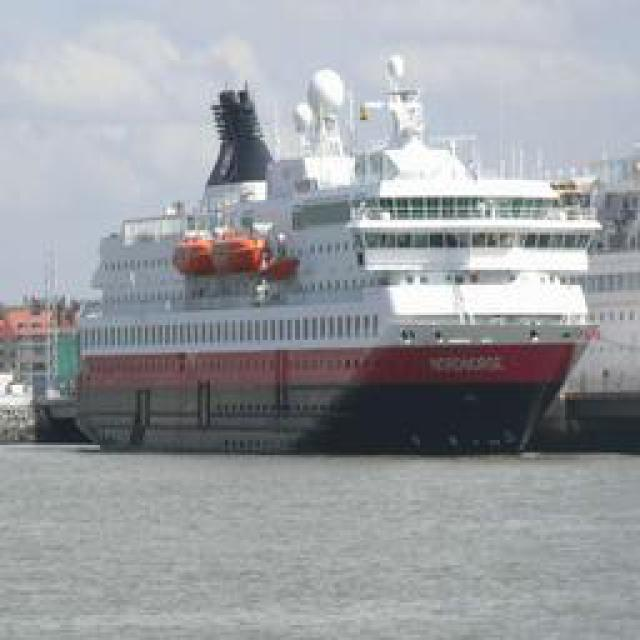Ship: (64, 69, 604, 444)
